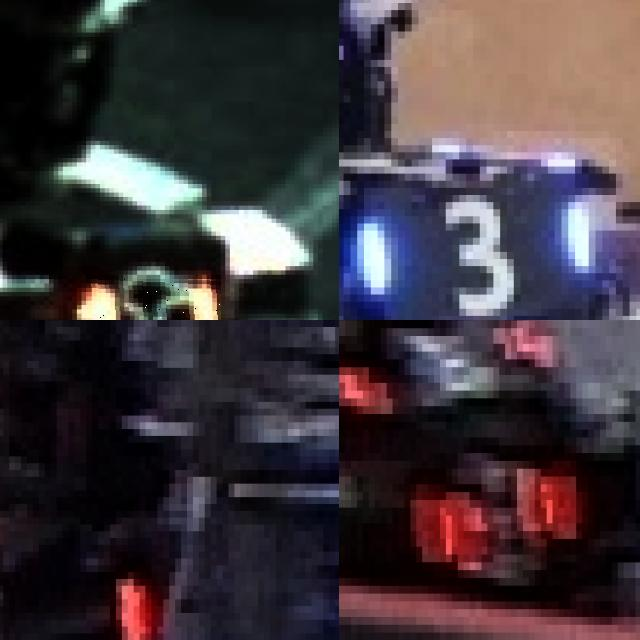B3: (350, 174, 596, 316)
R3: (410, 445, 576, 586)
Rs: (86, 275, 220, 320)
